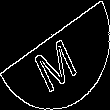M_NW: (29, 21, 81, 89)
